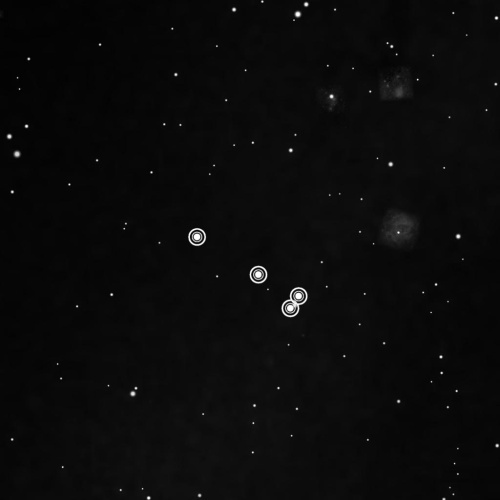sagitta: (181, 221, 313, 322)
